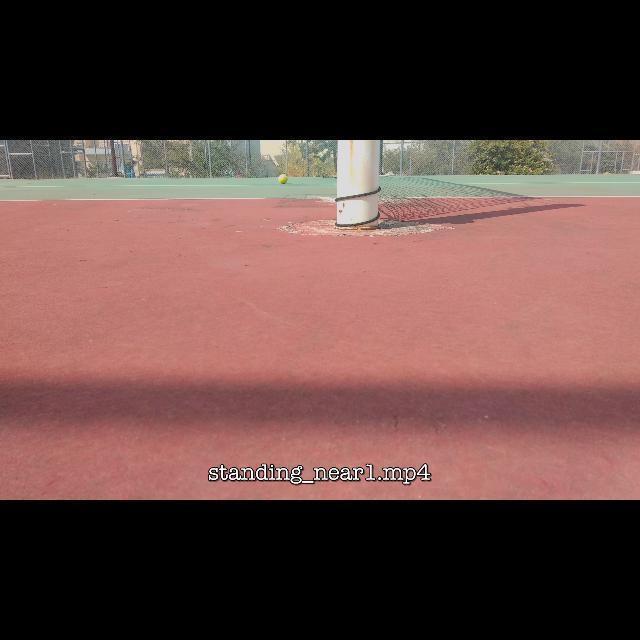tennis-ball: (279, 174, 288, 184)
